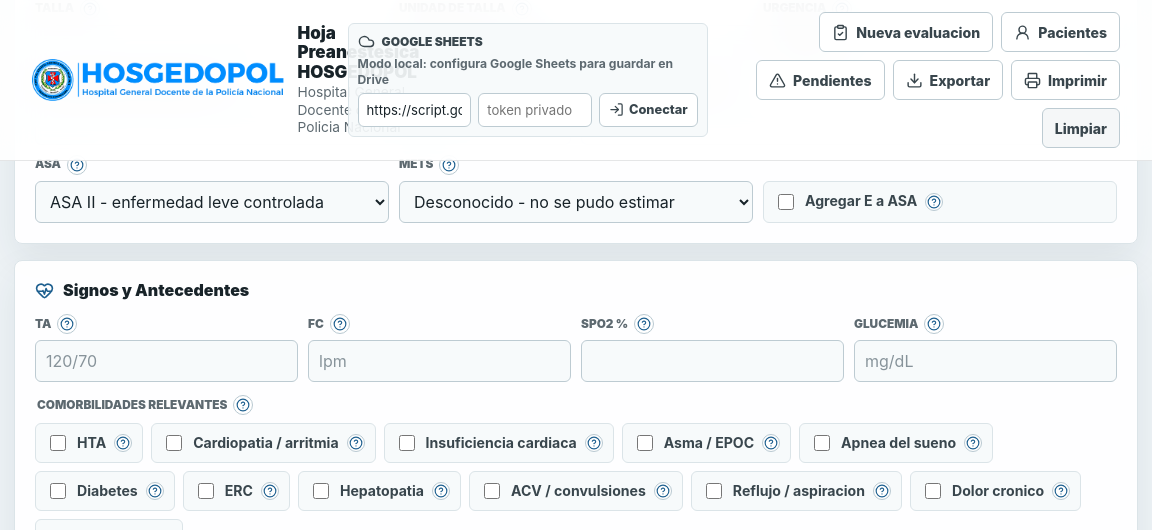
App › suggests pulmonology clearance when low SpO2 is captured
(page scrolled)
In the field named "SpO2 %": (712, 361) x1=581 y1=340 x2=844 y2=382, type "91"
(page scrolled)
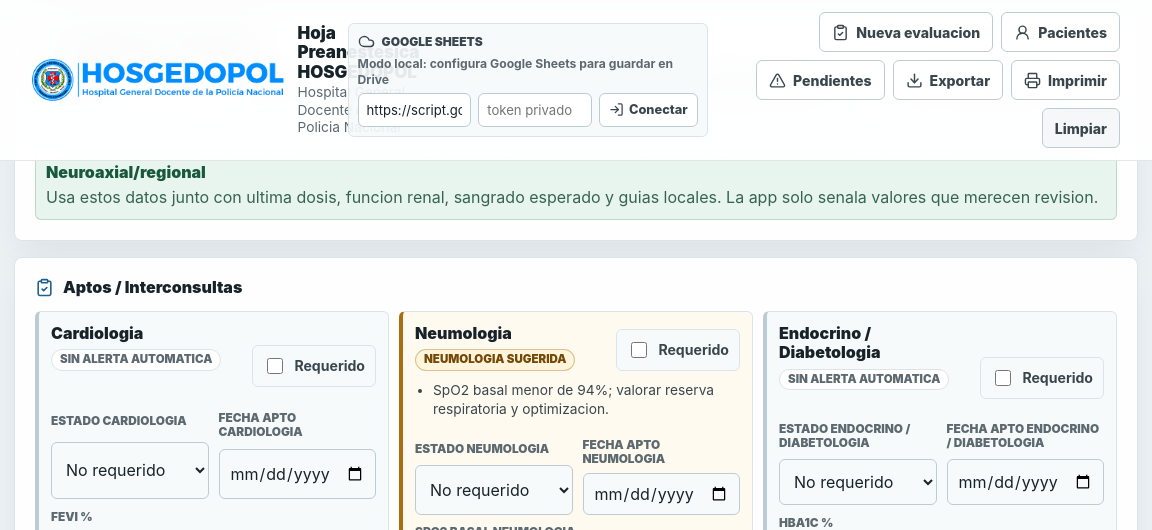
Expected: the text "Neumologia sugerida" is shown, x1=415 y1=349 x2=576 y2=371
